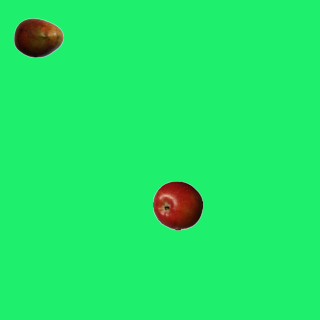Apple Braeburn: (152, 180, 202, 230)
Mango Red: (13, 12, 63, 62)
